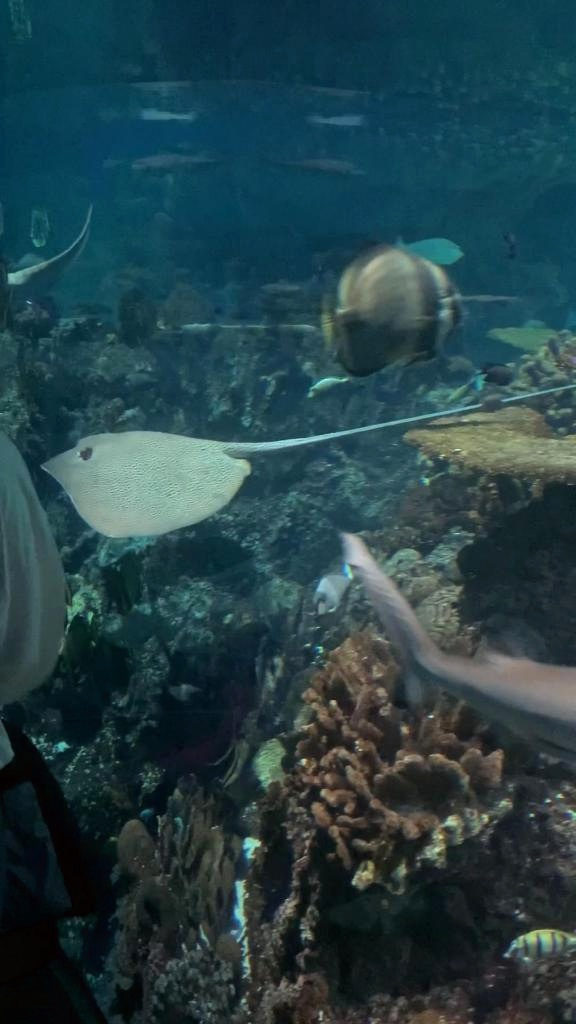fish: (319, 240, 467, 382), (2, 434, 78, 706), (392, 236, 466, 264)
shark: (342, 528, 574, 762)
stingray: (38, 430, 253, 536)
